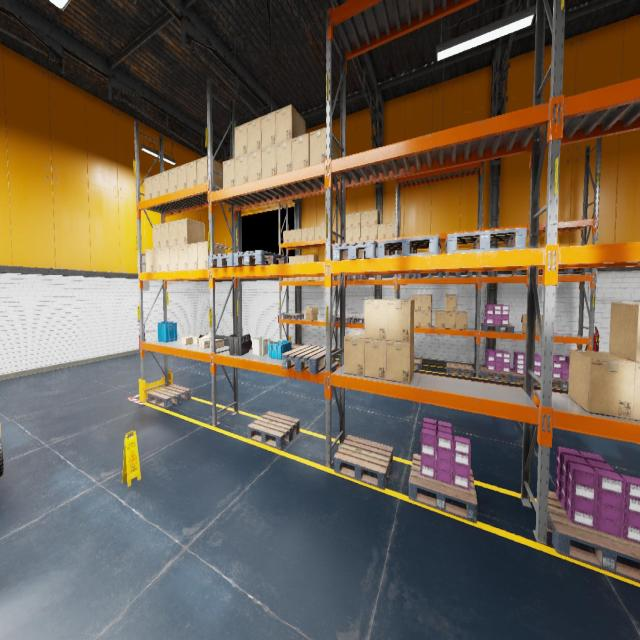box: (568, 349, 635, 420), (609, 352, 640, 421), (609, 302, 640, 362), (310, 127, 338, 176), (386, 338, 414, 383), (386, 299, 414, 342), (276, 105, 305, 144), (365, 299, 390, 340), (364, 338, 386, 380), (344, 332, 364, 377), (196, 156, 222, 188), (198, 241, 225, 269), (178, 218, 205, 245), (292, 133, 309, 170), (276, 139, 292, 174), (261, 111, 276, 148), (261, 144, 276, 178), (247, 117, 261, 153), (235, 122, 248, 158), (248, 149, 261, 182), (521, 314, 542, 334), (235, 154, 248, 186), (222, 158, 235, 188), (187, 243, 198, 269), (187, 160, 197, 187), (177, 163, 187, 190), (168, 167, 178, 193), (178, 244, 188, 270), (168, 220, 178, 246), (160, 222, 169, 248), (456, 311, 467, 330), (160, 170, 168, 195), (445, 311, 456, 329), (434, 310, 445, 328), (152, 173, 160, 197), (144, 176, 152, 200), (170, 246, 178, 270), (161, 247, 169, 271), (153, 248, 161, 272), (152, 224, 160, 248), (145, 249, 153, 272), (305, 307, 318, 321), (421, 295, 432, 311), (446, 295, 456, 312), (198, 332, 210, 346), (369, 210, 380, 225), (421, 311, 431, 327), (412, 295, 421, 311), (386, 222, 395, 238), (377, 223, 386, 239), (322, 225, 332, 239), (369, 224, 377, 240), (210, 339, 224, 348), (361, 211, 369, 226), (353, 212, 361, 227), (414, 311, 421, 327), (200, 338, 210, 348), (361, 226, 368, 240), (353, 227, 360, 241), (182, 336, 194, 344), (314, 226, 321, 239), (346, 213, 352, 228), (346, 228, 352, 242), (308, 254, 318, 262), (308, 227, 314, 240), (302, 228, 308, 241), (295, 229, 301, 242), (283, 230, 289, 243), (289, 230, 295, 242), (193, 336, 199, 344), (301, 255, 307, 262), (294, 255, 300, 262), (289, 256, 294, 263), (338, 229, 340, 242), (294, 277, 300, 281), (289, 277, 295, 281), (283, 277, 289, 281), (307, 277, 314, 280), (314, 277, 320, 280), (301, 277, 307, 280), (321, 276, 324, 280)
forklift: (0, 420, 3, 476)
pallets: (536, 488, 640, 583), (408, 454, 478, 524), (334, 435, 393, 489), (445, 228, 527, 253), (248, 411, 300, 450), (282, 345, 336, 374), (377, 235, 441, 258), (147, 384, 191, 408), (332, 241, 378, 260), (234, 250, 286, 266), (208, 253, 255, 268), (479, 366, 512, 382), (510, 369, 540, 386), (446, 362, 474, 377), (481, 322, 514, 332), (552, 378, 568, 390), (558, 268, 589, 274), (332, 315, 354, 323), (512, 270, 542, 275), (445, 272, 472, 277), (282, 313, 304, 319), (418, 273, 442, 278), (398, 273, 417, 279), (347, 275, 368, 280), (414, 358, 422, 370), (352, 316, 364, 323), (291, 344, 304, 349), (333, 276, 347, 280)
